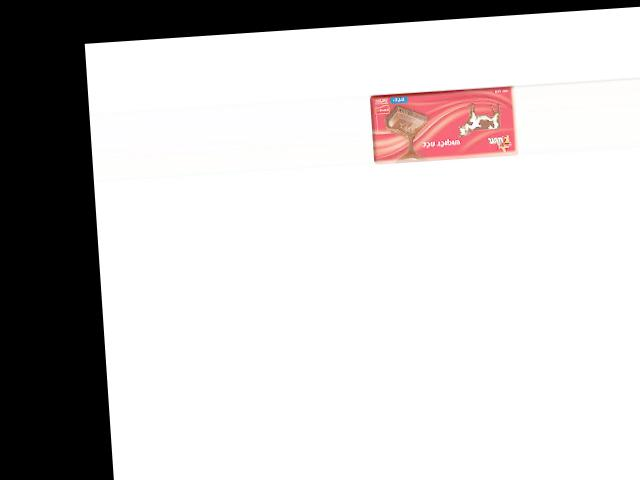chocolate: (368, 86, 519, 165)
